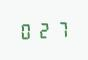seven: (53, 19, 69, 38)
two: (36, 20, 52, 39)
zero: (18, 21, 34, 40)
